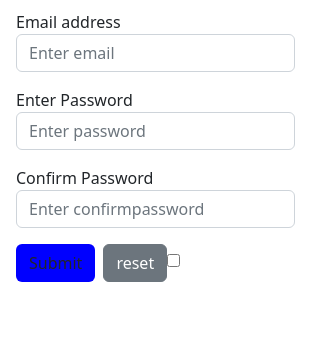
App Component Error Handling › should show email error message on invalid email
The width and height of the screenshot is (320, 339).
Expected: the text "the email you input is invalid" is not shown
Type "vajaganidhanesh.com" into the field labelled "Email address".
click(156, 53); type("vajaganidhanesh.com")  # box left=16, top=34, right=295, bottom=72
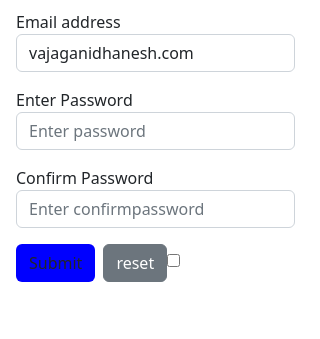
Click the button "Submit".
click(56, 263)  # box left=16, top=244, right=95, bottom=282
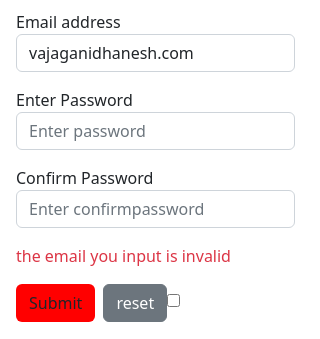
Expected: the text "the email you input is invalid" is shown, left=16, top=245, right=231, bottom=267
